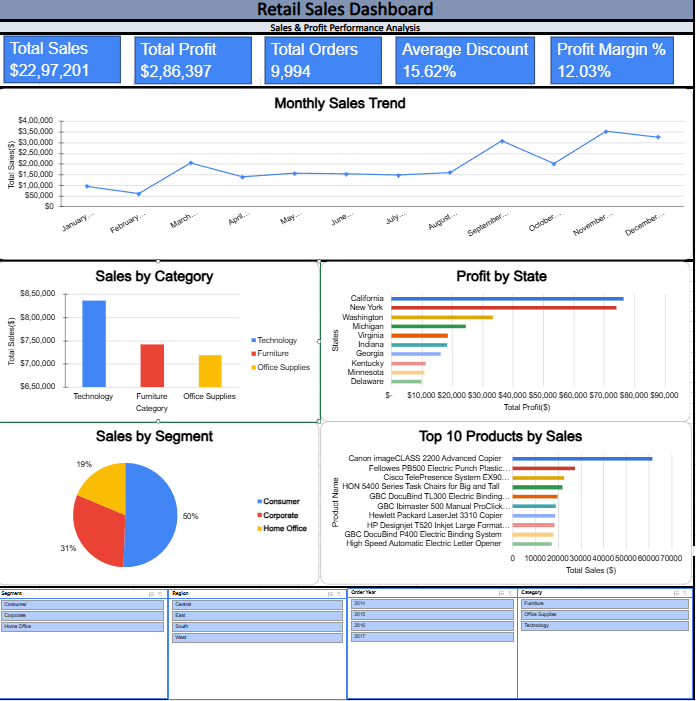

The dashboard page shown, as its layout file describes it:
{"tool":"powerbi","page":{"name":"Page 1","canvas":[1280,720],"ordinal":0},"visuals":[{"type":"cardVisual","fields":{"Data":["Sample - Superstore(Raw).Total Sales"]},"box":[37.5,68.1,169.9,110.6],"z":0},{"type":"cardVisual","fields":{"Data":["Sample - Superstore(Raw).Total Profit"]},"box":[283.5,68.1,191.6,110.6],"z":1000},{"type":"cardVisual","fields":{"Data":["Sample - Superstore(Raw).Total Orders"]},"box":[547.2,68.1,186.7,110.6],"z":2000},{"type":"cardVisual","fields":{"Data":["Sample - Superstore(Raw).Profit Margin %"]},"box":[836.5,68.1,171.9,110.6],"z":3000},{"type":"cardVisual","fields":{"Data":["Sample - Superstore(Raw).Average Discount"]},"box":[1067.7,68.1,190.6,110.6],"z":4000},{"type":"lineChart","title":"Monthly Sales Trend","fields":{"Y":["Sample - Superstore(Raw).Total Sales"],"Category":["Sample - Superstore(Raw).Month Name"]},"box":[37.5,295.3,1220.7,134.3],"z":5000},{"type":"columnChart","fields":{"Y":["Sample - Superstore(Raw).Total Sales"],"Category":["Sample - Superstore(Raw).Category"]},"box":[37.5,429.6,603.5,152.1],"z":6000},{"type":"clusteredBarChart","fields":{"Category":["Sample - Superstore(Raw).State"],"Y":["Sample - Superstore(Raw).Total Profit"]},"box":[640,429.6,618.3,152.1],"z":7000},{"type":"pieChart","fields":{"Category":["Sample - Superstore(Raw).Segment"],"Y":["Sample - Superstore(Raw).Total Sales"]},"box":[37.5,581.7,602.5,138.3],"z":8000},{"type":"clusteredBarChart","fields":{"Category":["Sample - Superstore(Raw).Product Name"],"Y":["Sample - Superstore(Raw).Total Sales"]},"box":[640,581.7,618.3,138.3],"z":9000},{"type":"textbox","box":[0,0,1280,64.9],"z":10000},{"type":"slicer","fields":{"Values":["Sample - Superstore(Raw).Category"]},"box":[42.5,168.9,159,116.5],"z":11000},{"type":"slicer","fields":{"Values":["Sample - Superstore(Raw).Order Year"]},"box":[299.3,168.9,159,116.5],"z":12000},{"type":"slicer","fields":{"Values":["Sample - Superstore(Raw).Segment"]},"box":[1083.5,168.9,159,116.5],"z":13000},{"type":"slicer","fields":{"Values":["Sample - Superstore(Raw).Region"]},"box":[842.5,168.9,159,116.5],"z":14000}]}

Visuals, with their boxes on the page's 1280x720 design canvas (x1, y1, x2, y2). These are canvas units, not pixel positions in the 696x701 screenshot, which may show the page scaled, cropped or inside an application window:
cardVisual - Sample - Superstore(Raw).Total Sales: left=38, top=68, right=207, bottom=179
cardVisual - Sample - Superstore(Raw).Total Profit: left=284, top=68, right=475, bottom=179
cardVisual - Sample - Superstore(Raw).Total Orders: left=547, top=68, right=734, bottom=179
cardVisual - Sample - Superstore(Raw).Profit Margin %: left=836, top=68, right=1008, bottom=179
cardVisual - Sample - Superstore(Raw).Average Discount: left=1068, top=68, right=1258, bottom=179
"Monthly Sales Trend" lineChart: left=38, top=295, right=1258, bottom=430
columnChart - Sample - Superstore(Raw).Total Sales x Sample - Superstore(Raw).Category: left=38, top=430, right=641, bottom=582
clusteredBarChart - Sample - Superstore(Raw).State x Sample - Superstore(Raw).Total Profit: left=640, top=430, right=1258, bottom=582
pieChart - Sample - Superstore(Raw).Segment x Sample - Superstore(Raw).Total Sales: left=38, top=582, right=640, bottom=720
clusteredBarChart - Sample - Superstore(Raw).Product Name x Sample - Superstore(Raw).Total Sales: left=640, top=582, right=1258, bottom=720
textbox: left=0, top=0, right=1280, bottom=65
slicer - Sample - Superstore(Raw).Category: left=42, top=169, right=202, bottom=285
slicer - Sample - Superstore(Raw).Order Year: left=299, top=169, right=458, bottom=285
slicer - Sample - Superstore(Raw).Segment: left=1084, top=169, right=1242, bottom=285
slicer - Sample - Superstore(Raw).Region: left=842, top=169, right=1002, bottom=285
